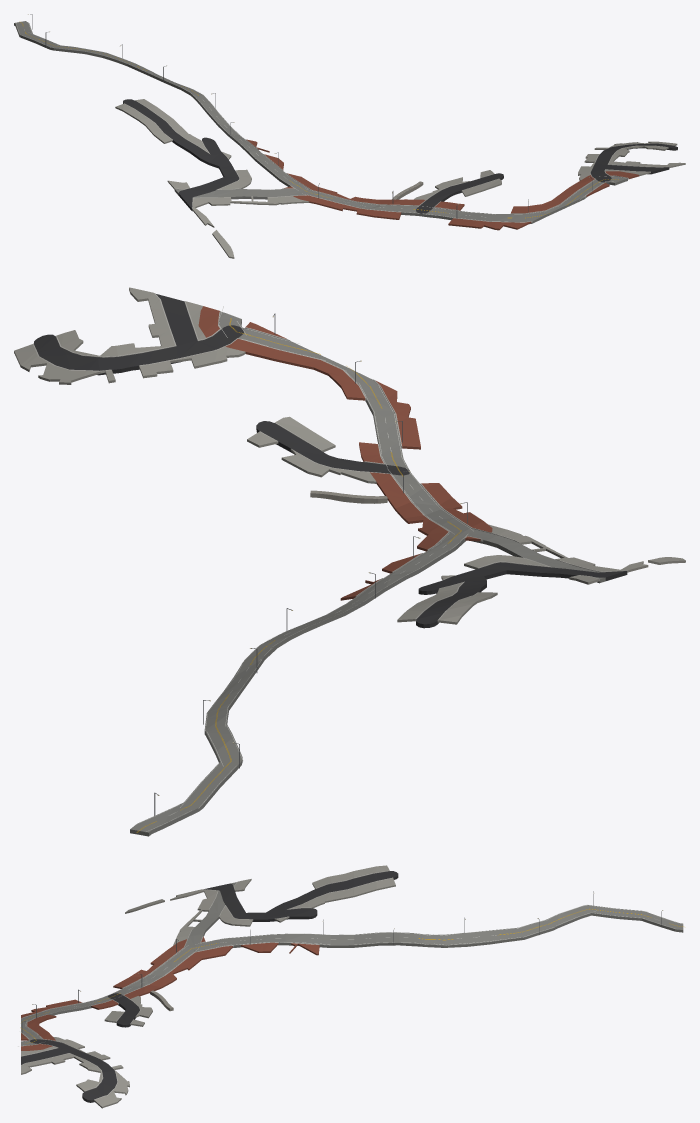
3 renders of one model, top to bottom at view 1: azimuth 30°, elevation 25°; view 2: azimuth 150°, elevation 25°; view 3: azimuth 270°, elevation 25°, orthographic. The views are drawn at different scales.
Bounding box in the file's own units: 222 × 26.35 × 296.
